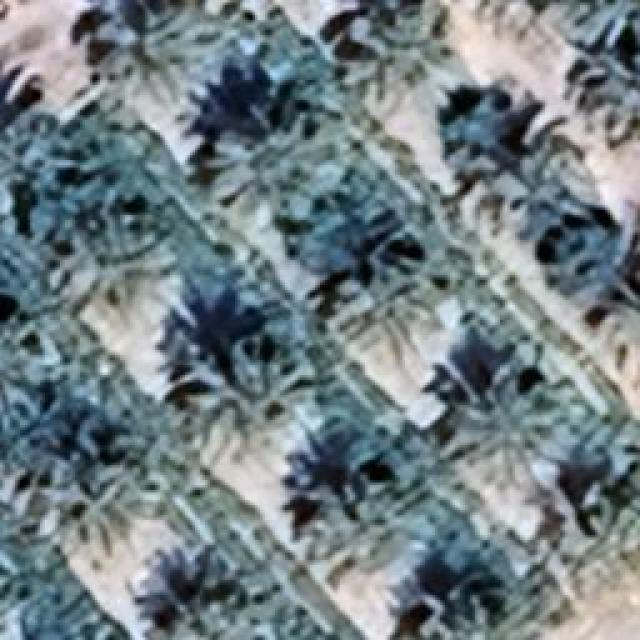PalmTree: (113, 16, 514, 98), (180, 335, 312, 470), (85, 98, 136, 442), (298, 438, 420, 558), (0, 112, 92, 269), (450, 380, 565, 498), (466, 109, 584, 224), (202, 115, 340, 210), (401, 557, 551, 640), (35, 454, 130, 568), (96, 0, 202, 98), (76, 113, 178, 211), (337, 0, 444, 92), (322, 246, 428, 326), (84, 208, 164, 302), (580, 420, 640, 540), (437, 83, 514, 157), (0, 307, 42, 437), (598, 270, 638, 385), (150, 598, 262, 638), (0, 597, 102, 637), (600, 48, 638, 150), (560, 0, 638, 48), (0, 470, 30, 588)
